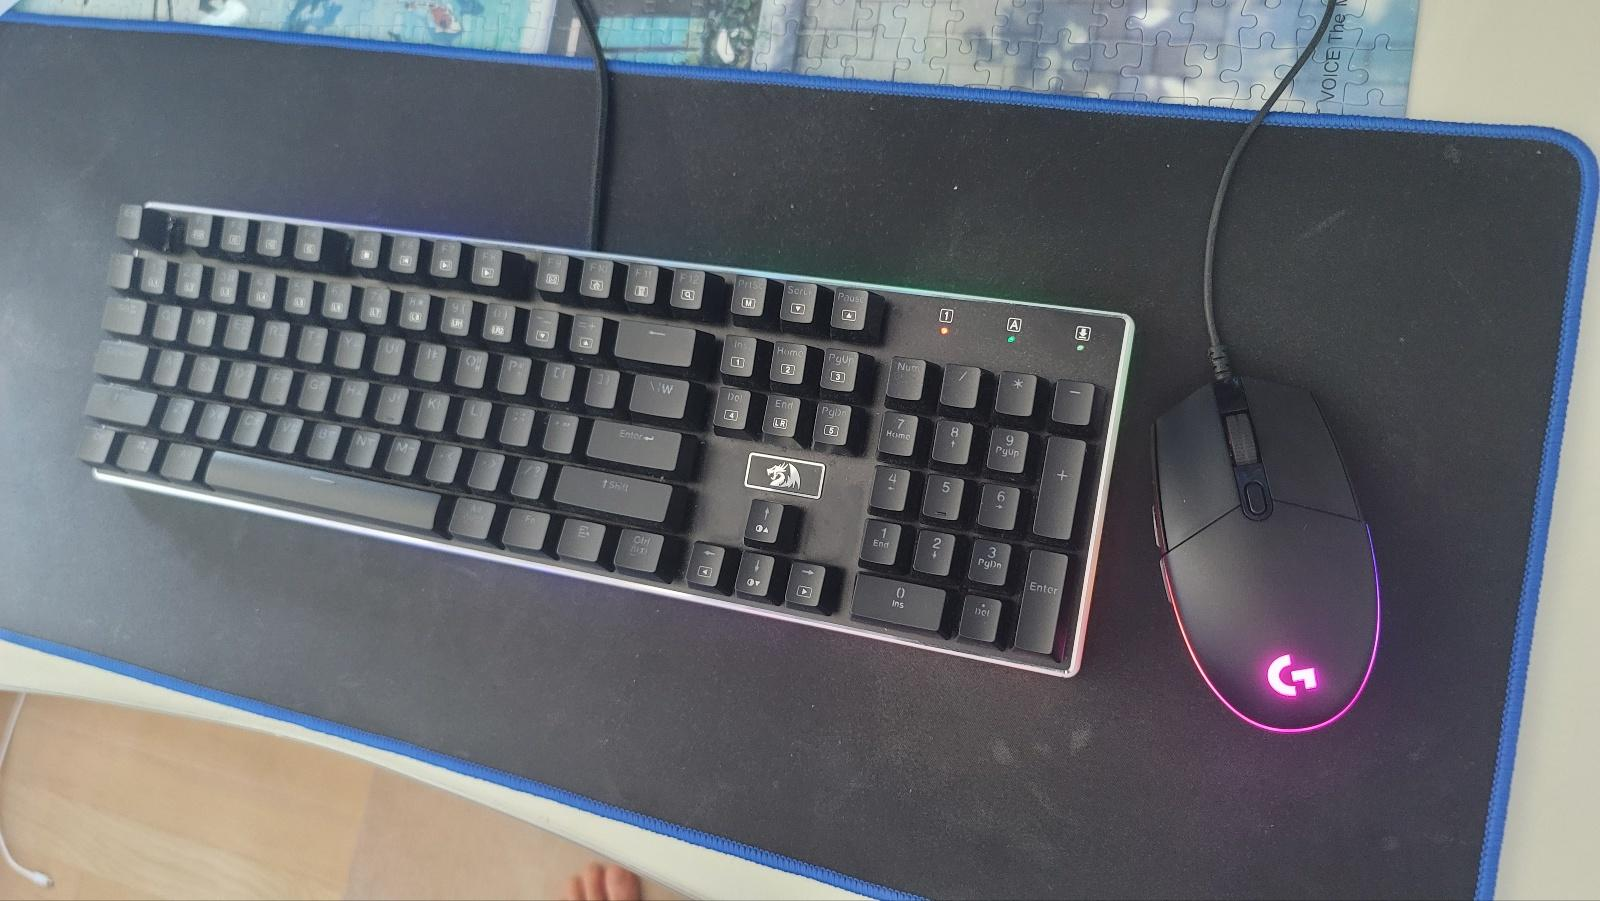keyboard: (74, 198, 1136, 679)
mouse: (1148, 372, 1381, 734)
